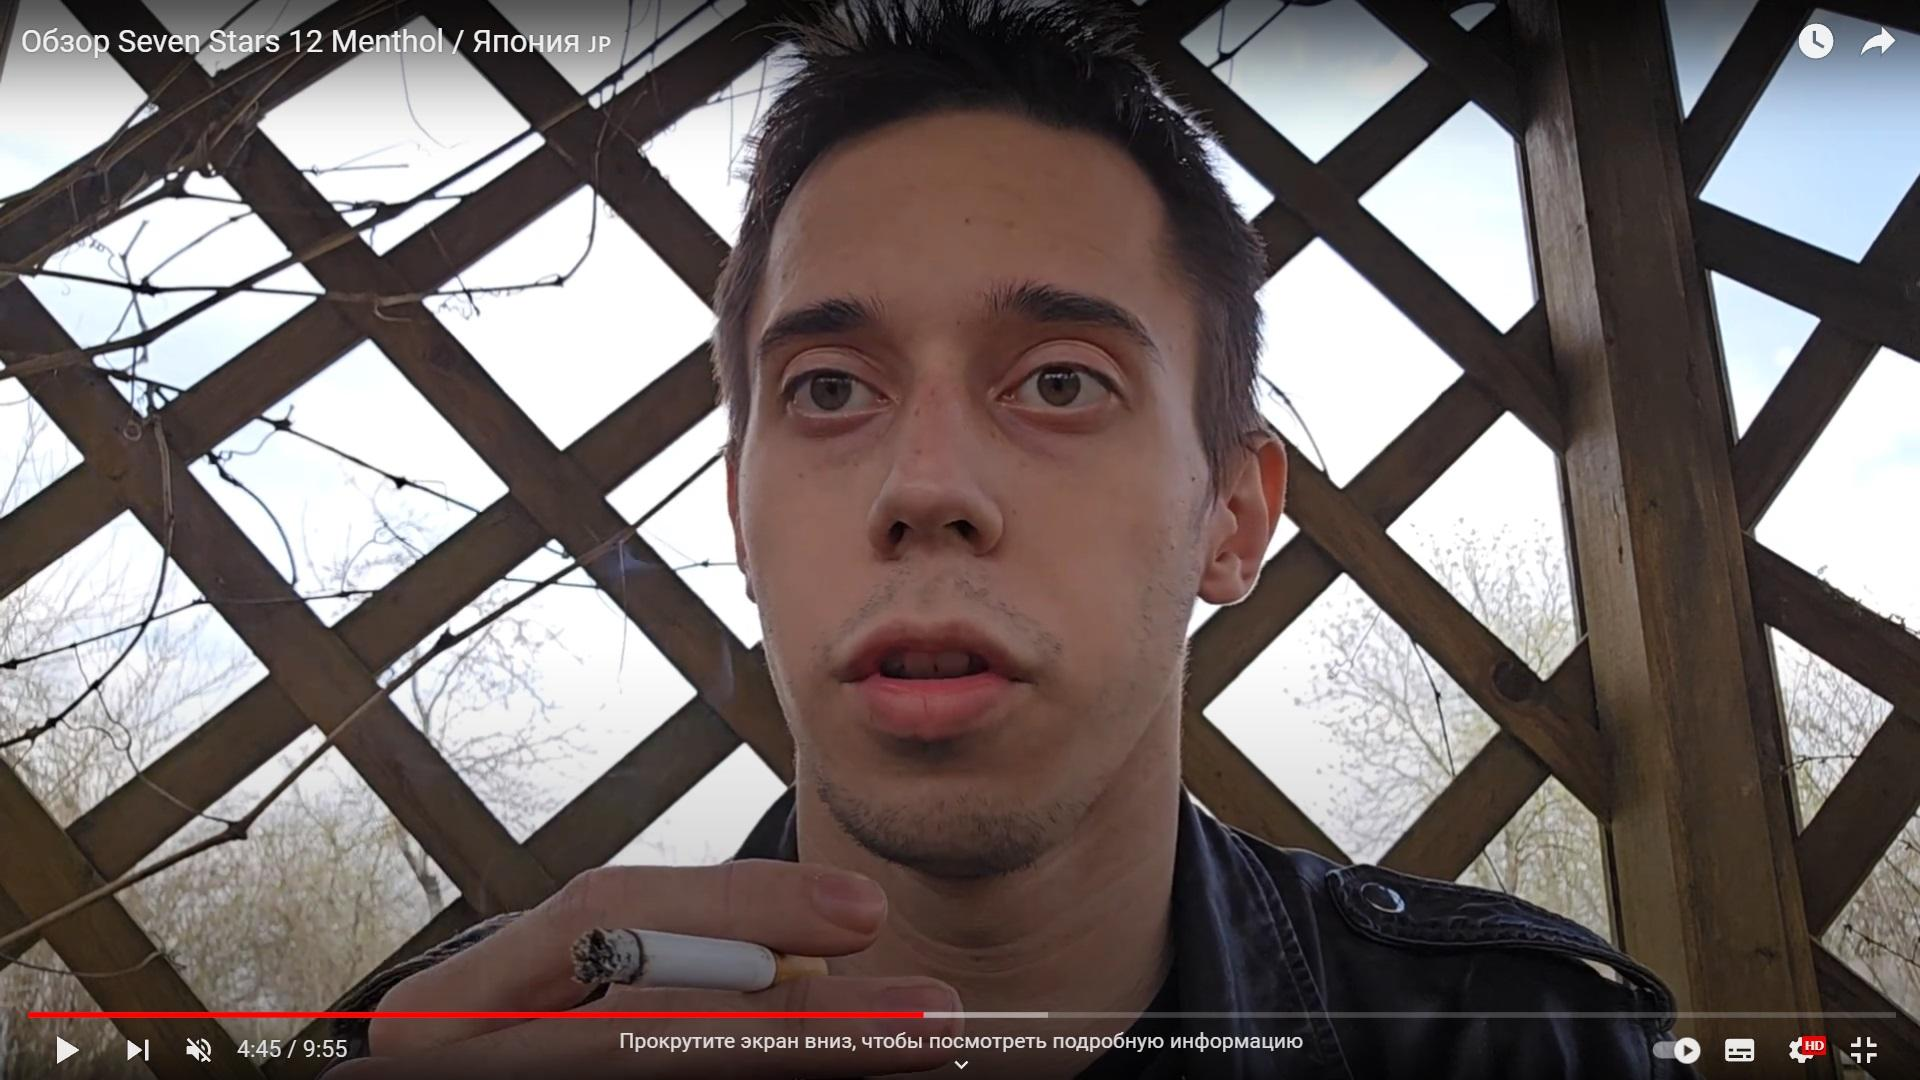cigarette: (566, 927, 829, 992)
